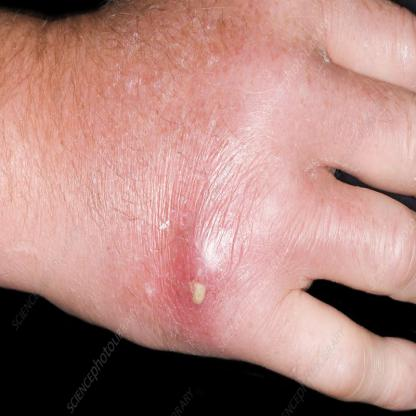Fire ant: (173, 236, 225, 312)
